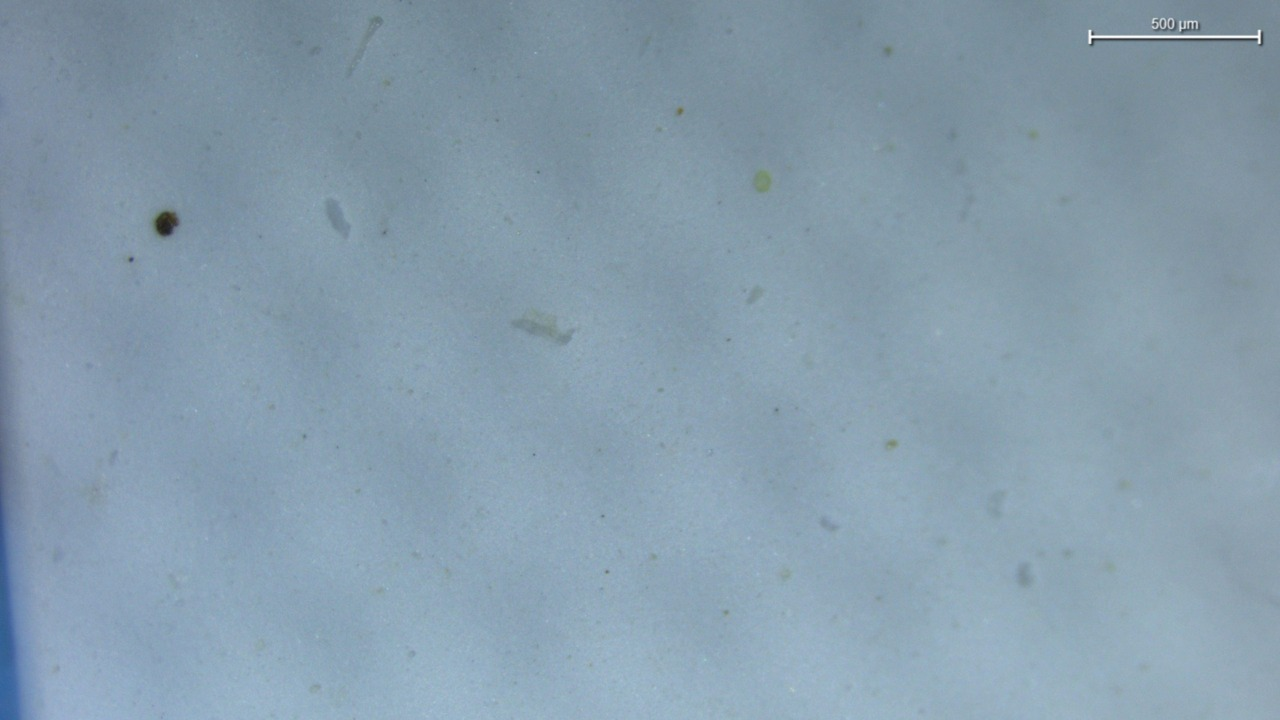microplastic_fragment: (512, 310, 575, 345)
